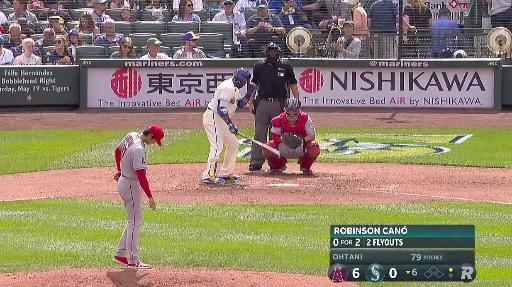pitcher: (114, 125, 163, 269)
